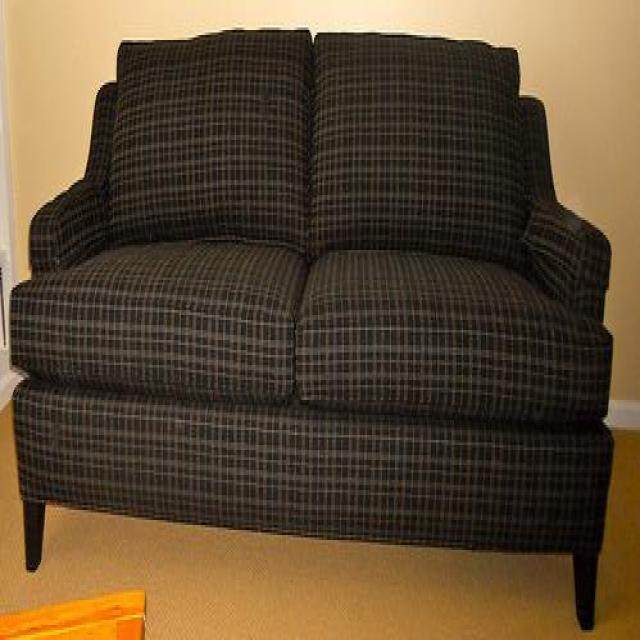sofa: (6, 18, 617, 640)
